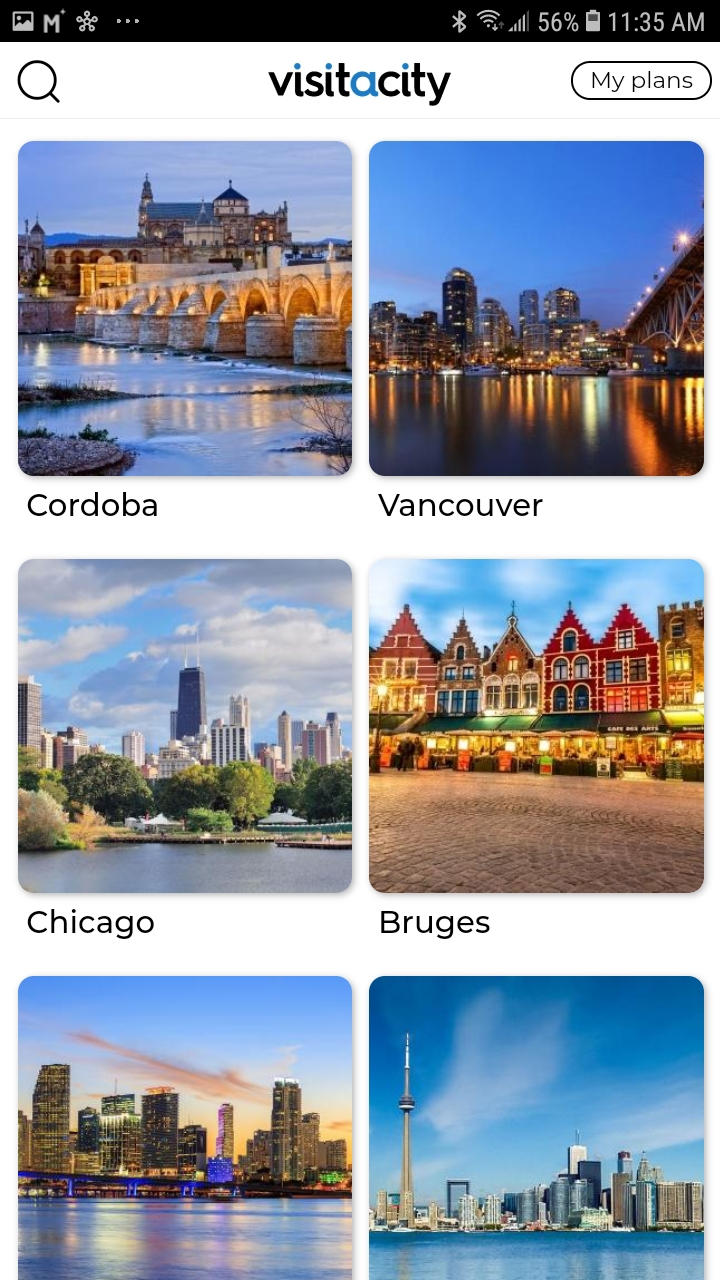Icon: (18, 61, 62, 105)
Image: (369, 141, 704, 477), (369, 559, 704, 894), (19, 558, 353, 893), (18, 142, 352, 477), (18, 976, 353, 1280), (369, 976, 704, 1280), (268, 63, 452, 108)
Text: (28, 909, 155, 940), (378, 494, 544, 517), (28, 492, 158, 517), (381, 911, 490, 940)
TextButton: (571, 61, 713, 101)
UpperTaskBar: (1, 1, 720, 43)
